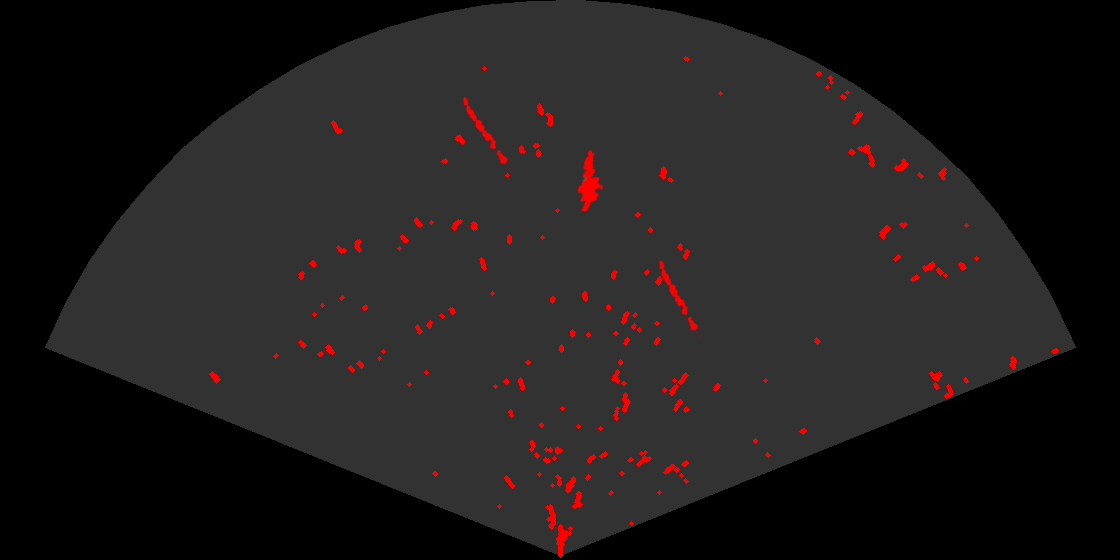chain: (461, 95, 514, 173), (657, 258, 703, 340)
frogman: (576, 148, 605, 211)
